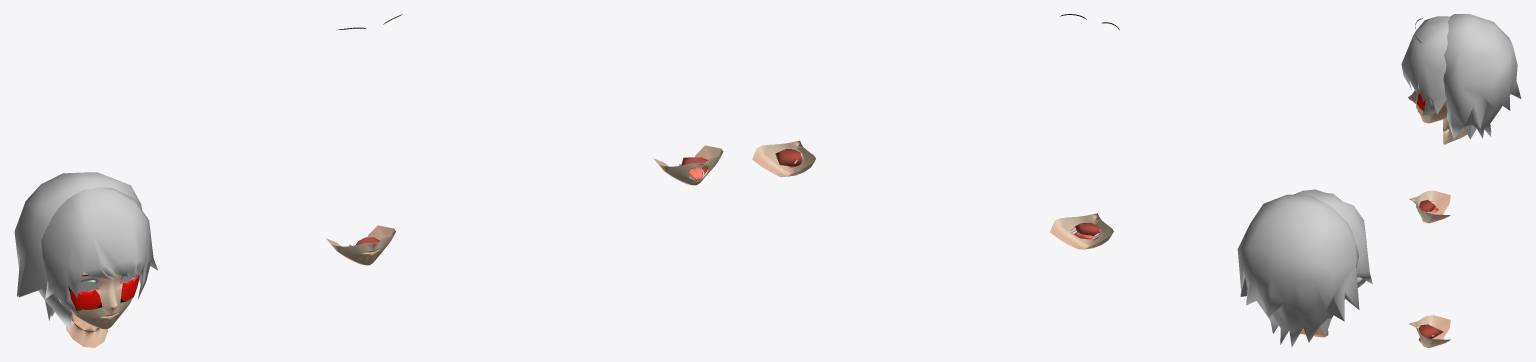
Rendered from model@Head_test.fbx.
3 renders of one model, left to right at view 1: azimuth 30°, elevation 25°; view 2: azimuth 150°, elevation 25°; view 3: azimuth 270°, elevation 25°, orthographic. The views are drawn at different scales.
Parts seen in each view (by area): view 1: hair_c, hair_b, face_B_B_00_d, face_B1, face_cheekLayer, face_B, NeckCilinder, face_T; view 2: hair_b, face_B1, hair_c, face_B_B_00_d; view 3: hair_b, hair_c, face_B1, face_B_B_00_d, NeckCilinder, face_B, face_T.
Boxes of the visible parts, bbox=[...] form: hair_c: bbox=[41, 187, 157, 315]; hair_b: bbox=[14, 172, 141, 330]; face_B_B_00_d: bbox=[326, 225, 395, 265]; face_B1: bbox=[653, 145, 723, 185]; face_cheekLayer: bbox=[68, 274, 139, 310]; face_B: bbox=[70, 298, 132, 329]; NeckCilinder: bbox=[66, 313, 107, 347]; face_T: bbox=[68, 267, 136, 310]; hair_b: bbox=[1237, 194, 1359, 347]; face_B1: bbox=[752, 140, 815, 177]; hair_c: bbox=[1293, 189, 1372, 287]; face_B_B_00_d: bbox=[1050, 213, 1113, 249]; hair_b: bbox=[1443, 14, 1521, 139]; hair_c: bbox=[1401, 16, 1449, 115]; face_B1: bbox=[1409, 315, 1450, 347]; face_B_B_00_d: bbox=[1409, 190, 1450, 223]; NeckCilinder: bbox=[1443, 118, 1466, 144]; face_B: bbox=[1411, 100, 1446, 123]; face_T: bbox=[1408, 83, 1447, 115].
Size of the model in its own units: 31.28 by 11.98 by 6.1.
